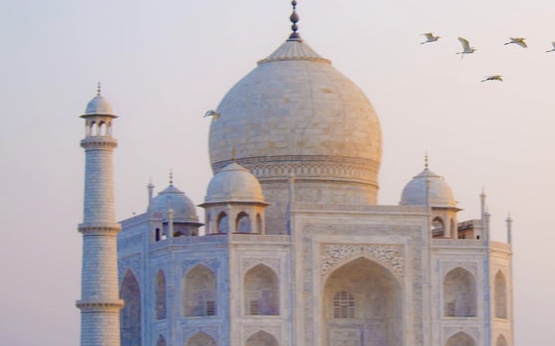Mosque: (58, 3, 531, 343)
